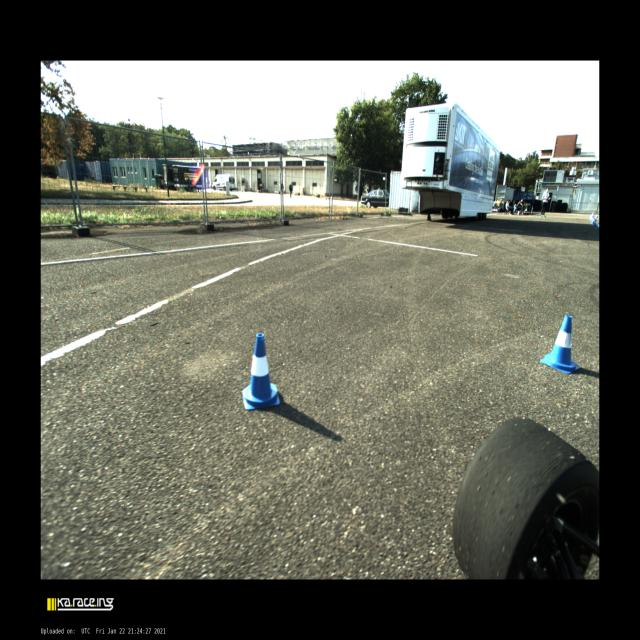blue_cone: (242, 333, 280, 409), (540, 315, 579, 374)
